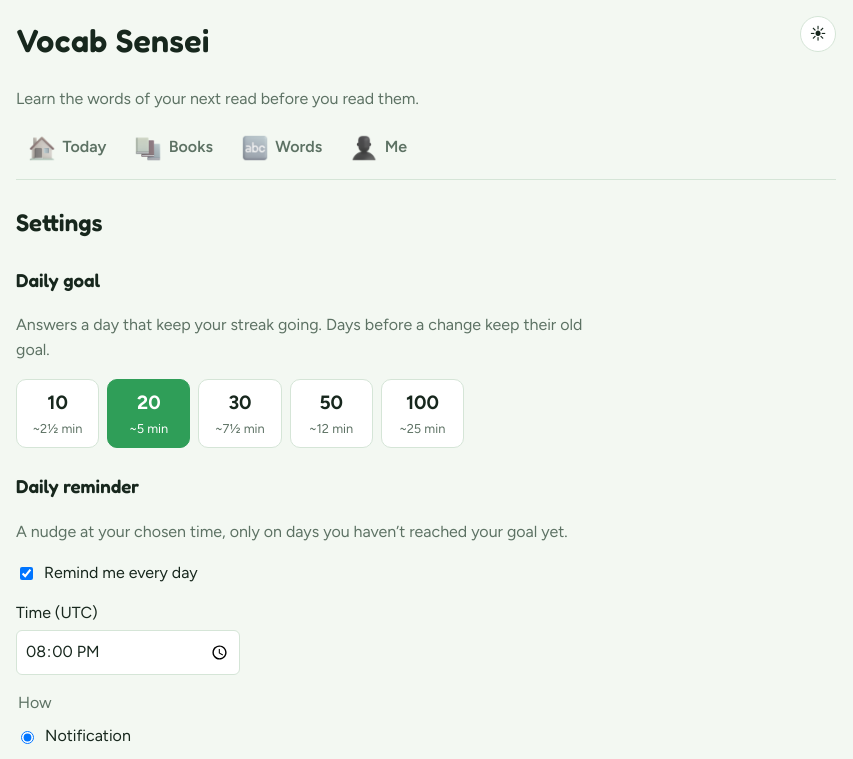
Test: daily reminder settings › changes the daily goal, showing about how long each takes
The width and height of the screenshot is (853, 759).
Click the button "30 ~7½ min" at (240, 414), box [198, 379, 282, 448]
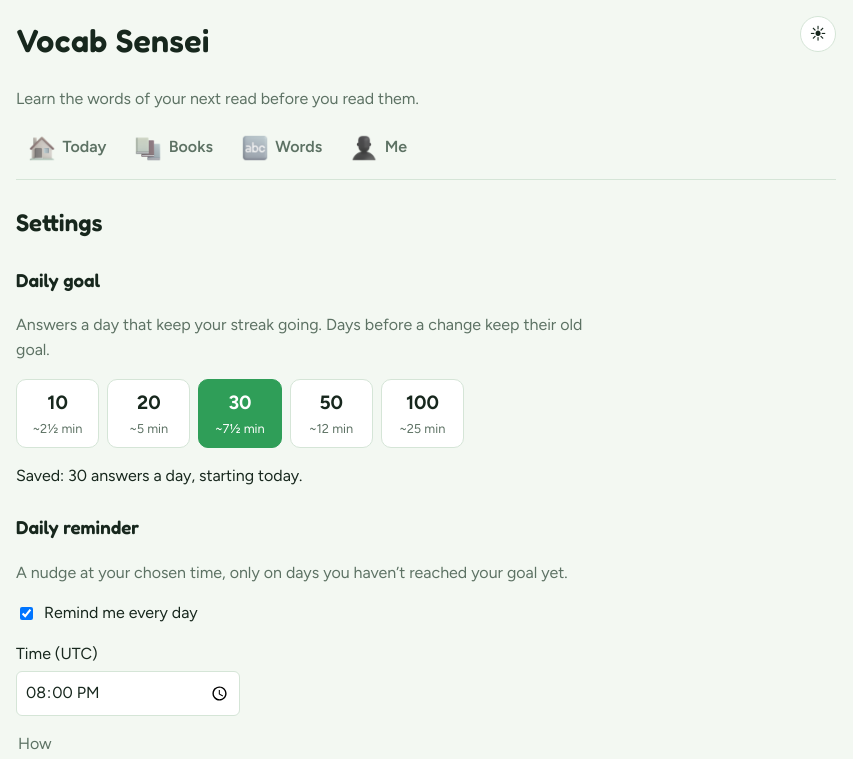
Check: the message shows "Saved: 30 answers a day", box [16, 466, 302, 485]
